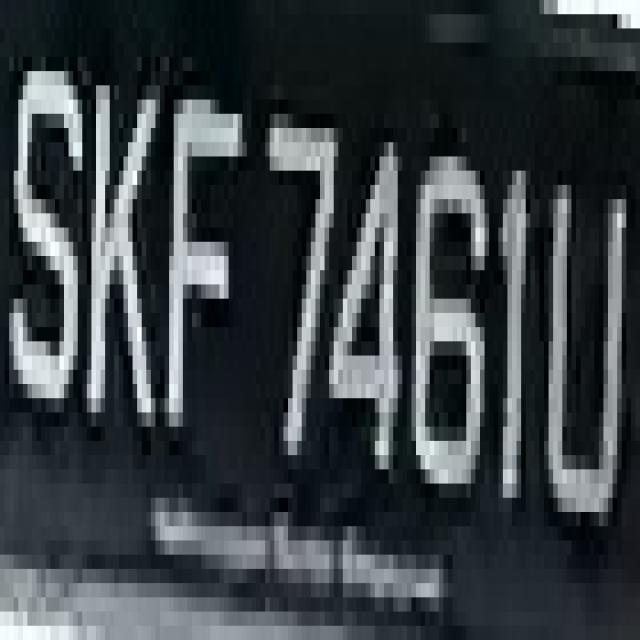1: (507, 128, 535, 569)
4: (320, 86, 407, 526)
6: (407, 114, 489, 540)
7: (251, 0, 333, 469)
F: (160, 43, 238, 469)
K: (73, 57, 151, 483)
S: (9, 57, 73, 483)
U: (540, 185, 636, 555)
